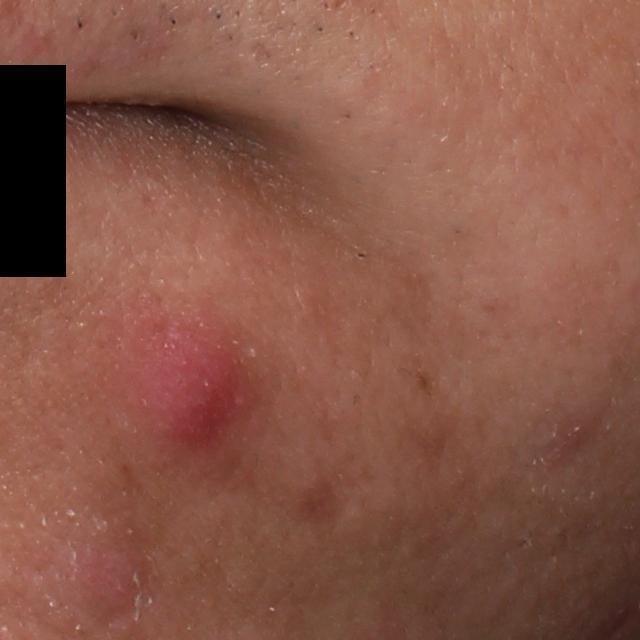papule: (120, 312, 268, 445), (47, 529, 152, 622)
